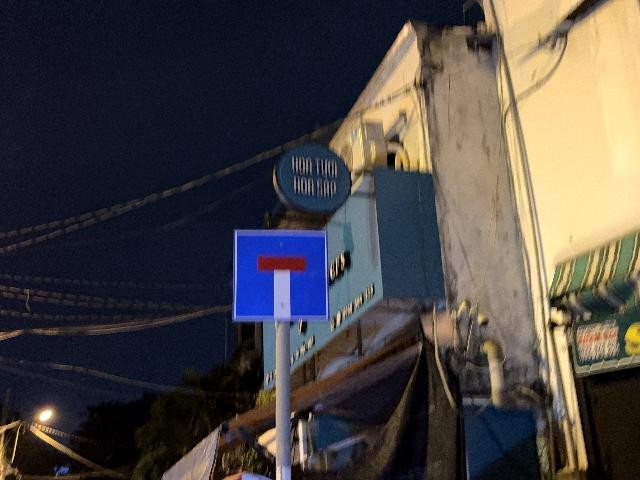duong-cut: (233, 229, 329, 320)
